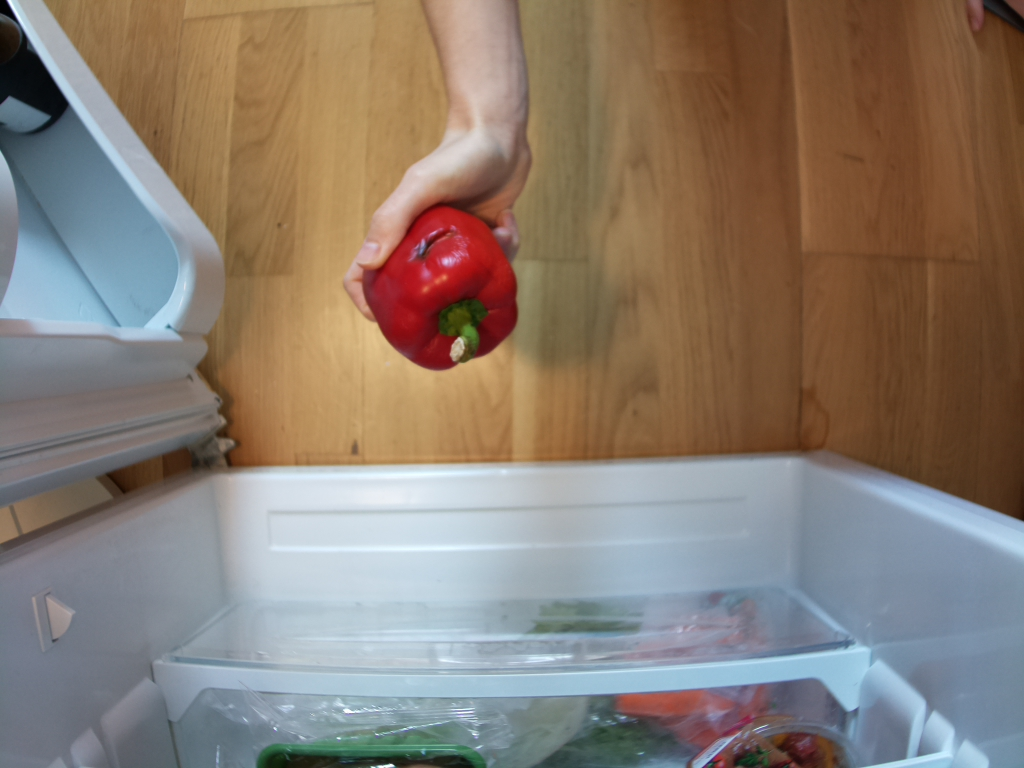pepper-bad: (357, 200, 529, 374)
